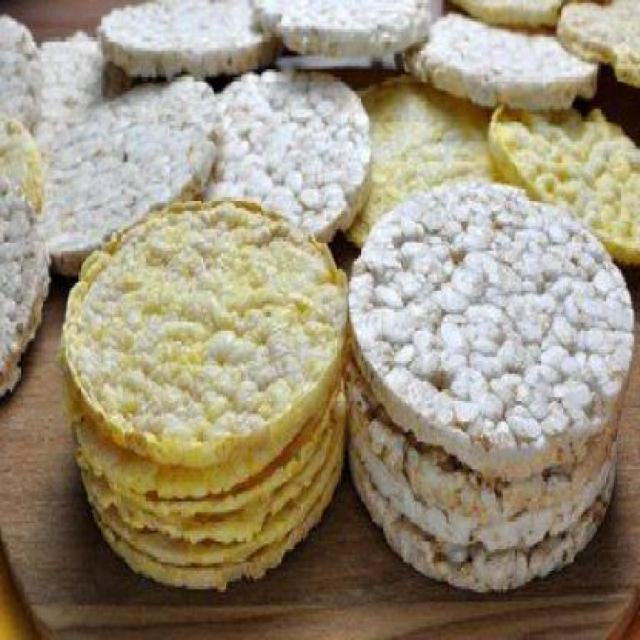Gallette di riso packaged: (334, 180, 638, 474), (53, 194, 350, 472), (202, 67, 382, 238), (30, 89, 221, 242), (83, 2, 274, 64)
